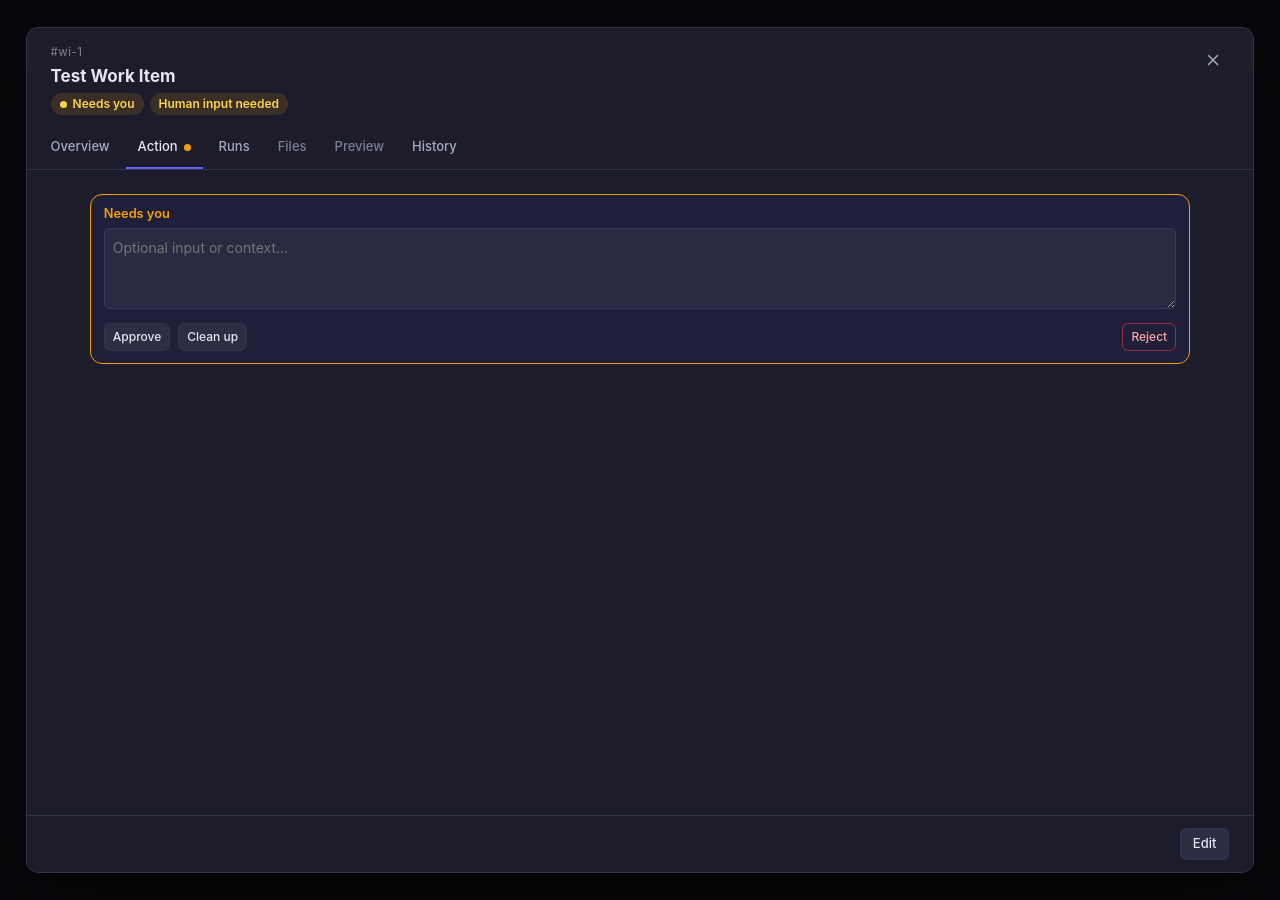
Test: the feedback pane offers only the outputs the parked node shows › a confirmation open when the work item changes is dropped, and nothing is sent
This screenshot has width=1280, height=900.
Click the button "Clean up": (213, 337) 178,323 -> 247,351
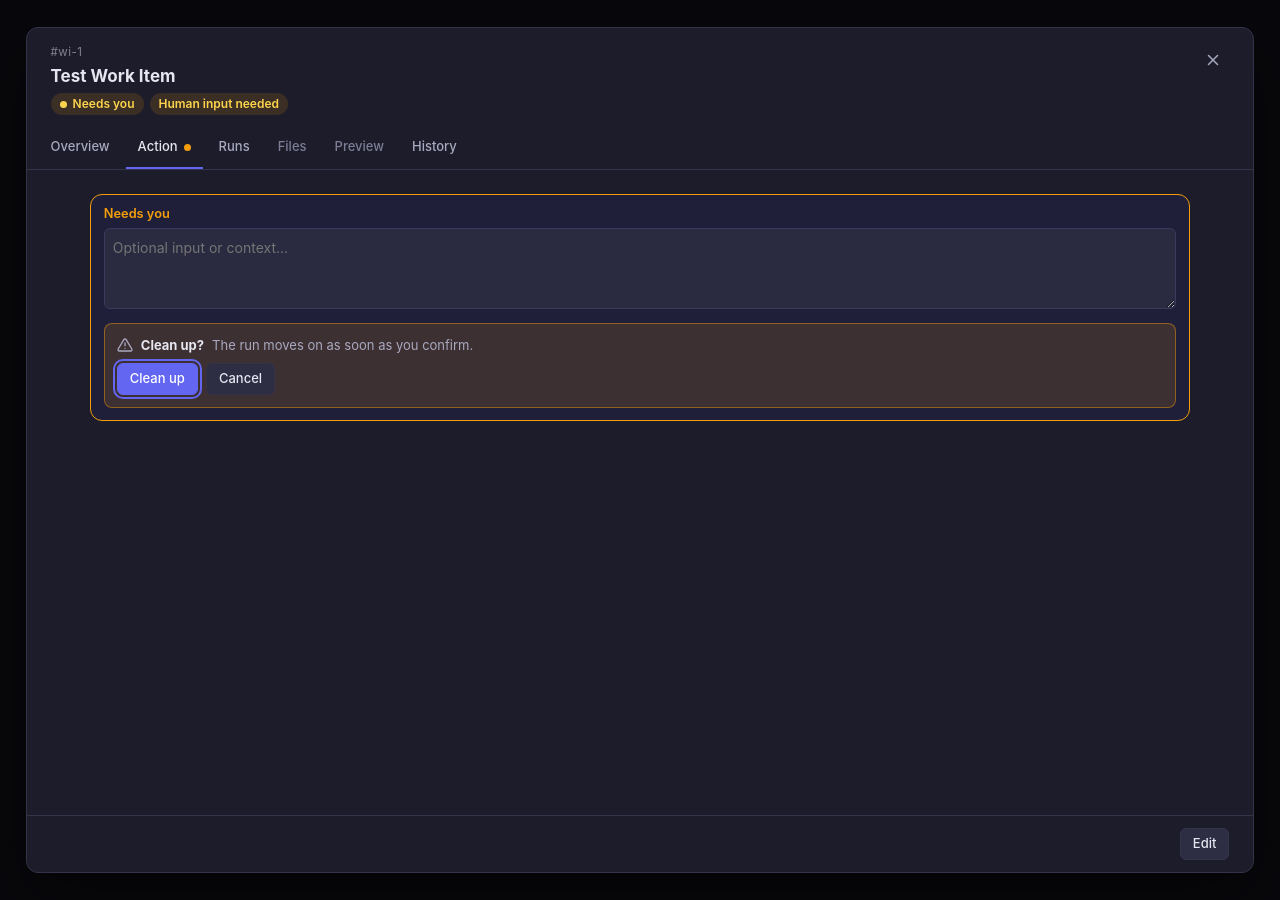
Expected: the dialog named "Confirm Clean up" is shown, 104,323 -> 1176,408
